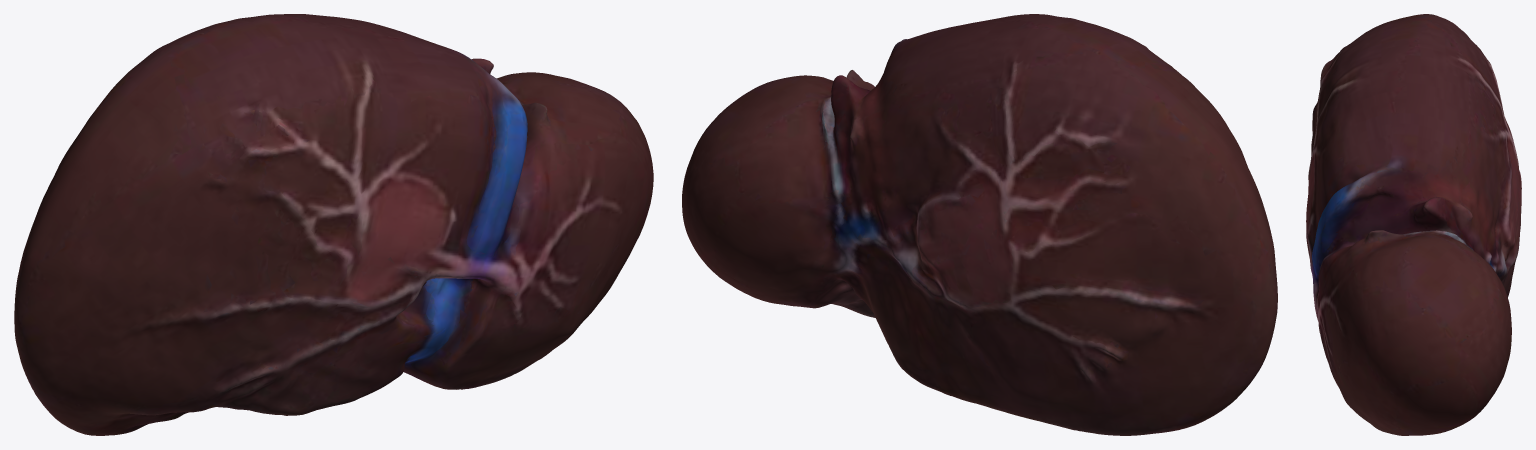
File: cancer-liver.glb
The picture shows the model from 3 angles, left to right: view 1: azimuth 30°, elevation 25°; view 2: azimuth 150°, elevation 25°; view 3: azimuth 270°, elevation 25°; orthographic projection. The views are drawn at different scales.
Parts seen in each view (by area): view 1: CancerLiver; view 2: CancerLiver; view 3: CancerLiver.
Part boxes in pixels (bbox=[...]): CancerLiver: bbox=[14, 14, 653, 435]; CancerLiver: bbox=[682, 14, 1277, 435]; CancerLiver: bbox=[1306, 14, 1521, 435].
Bounding box in the file's own units: 1.05 × 0.6408 × 0.4012.
1 material, 1 textured.
